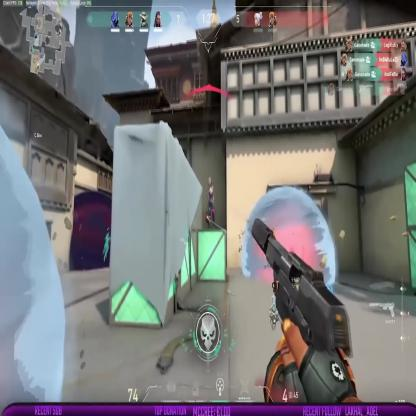enemy: (205, 186, 216, 232)
enemy_head: (209, 186, 213, 195)
